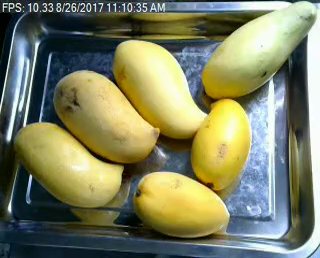Mango: (197, 2, 319, 96), (109, 38, 210, 141), (16, 120, 125, 211), (52, 72, 161, 161), (133, 170, 234, 238), (189, 97, 250, 189)
